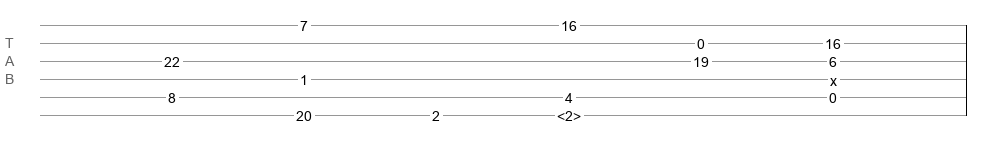0: (697, 36, 705, 46), (829, 90, 837, 100)
1: (300, 72, 308, 82)
16: (561, 18, 577, 28), (825, 36, 841, 46)
19: (693, 54, 709, 64)
2: (432, 108, 440, 118)
20: (296, 108, 312, 118)
22: (164, 54, 180, 64)
4: (565, 90, 573, 100)
6: (829, 54, 837, 64)
7: (300, 18, 308, 28)
8: (168, 90, 176, 100)
harmonic: (557, 108, 581, 118)
x: (830, 73, 837, 81)
